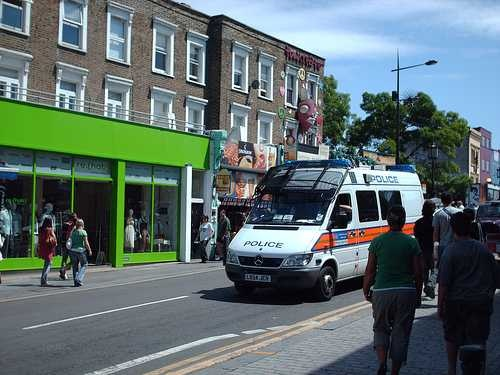Police Van: (216, 136, 469, 301)
